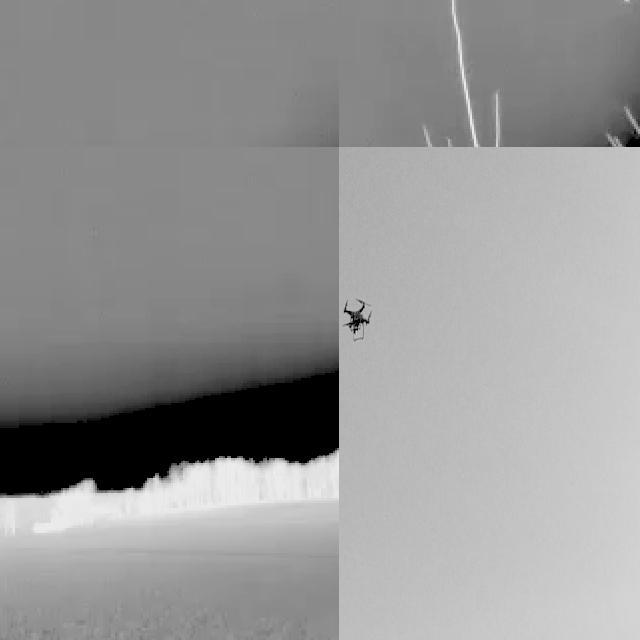0: (612, 0, 636, 19)
drone: (343, 294, 373, 346)
